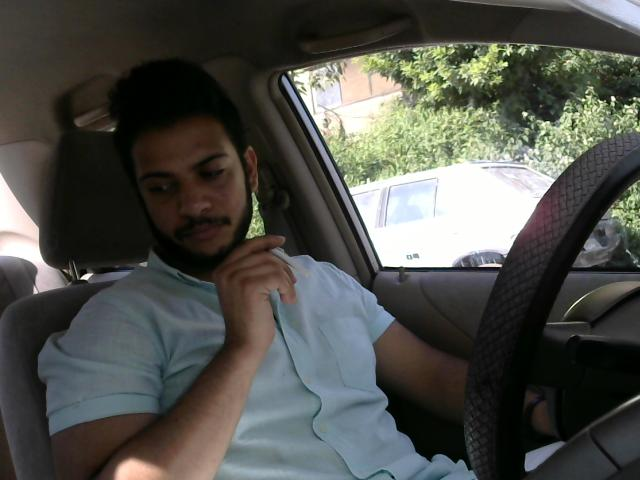Smoking: (265, 243, 318, 282)
